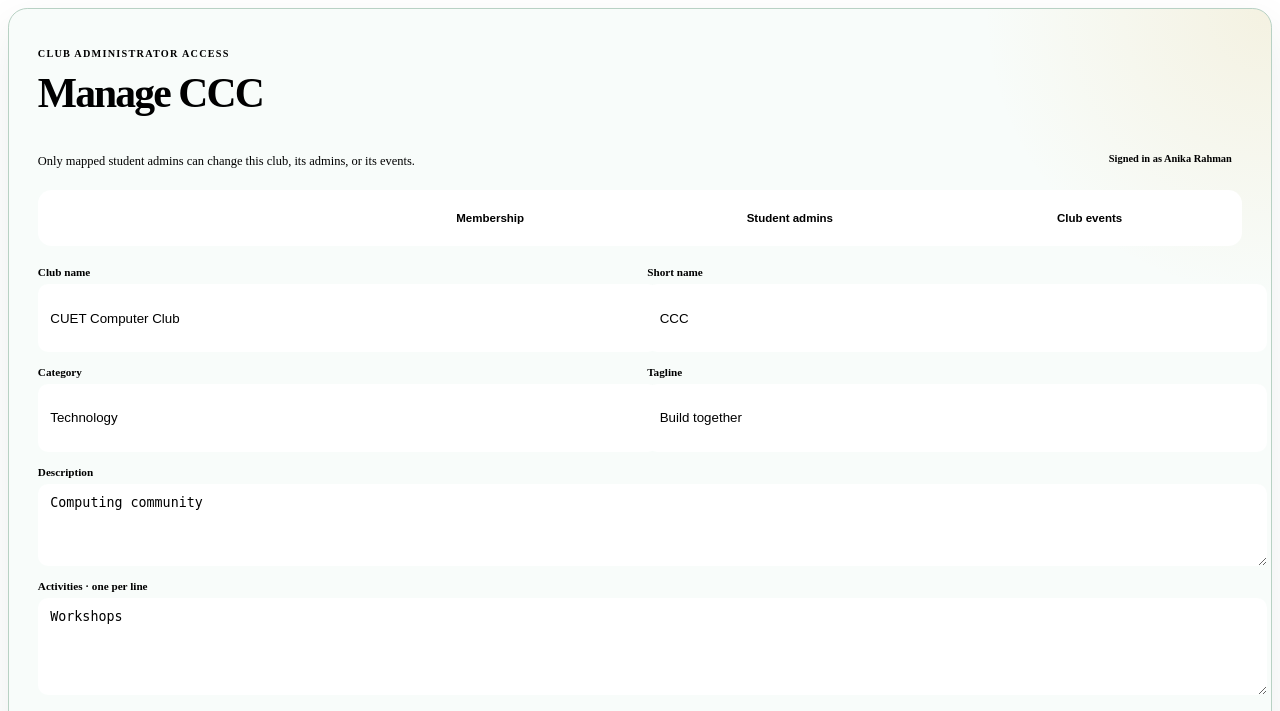
club and event behavior › club-admin workspace exposes mapped-admin controls and protects the final admin
What coordinates should you click on to do the following:
click the button "Student admins"
I would click on:
 (790, 218)
Its box is [643,196,937,241].
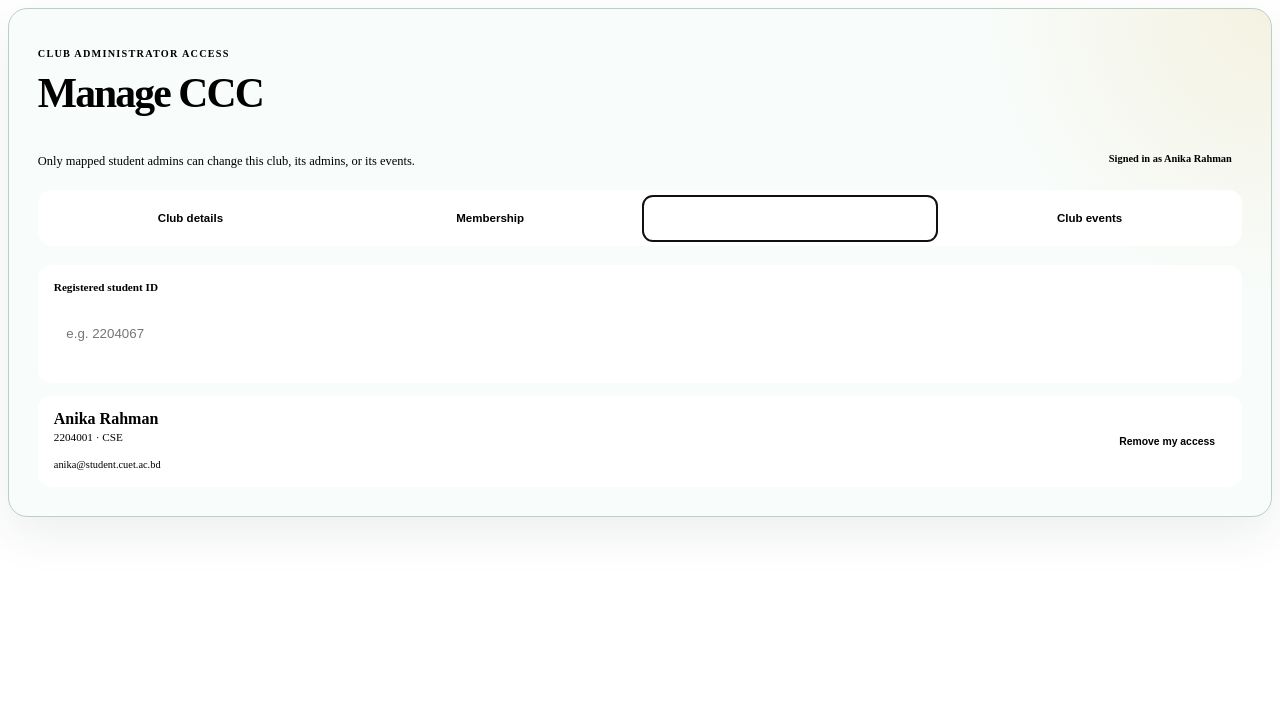
Expected: the field labelled "Registered student ID" is shown, [54,300,1102,367]
Expected: the button "Remove my access" is disabled, [1108,427,1226,456]
